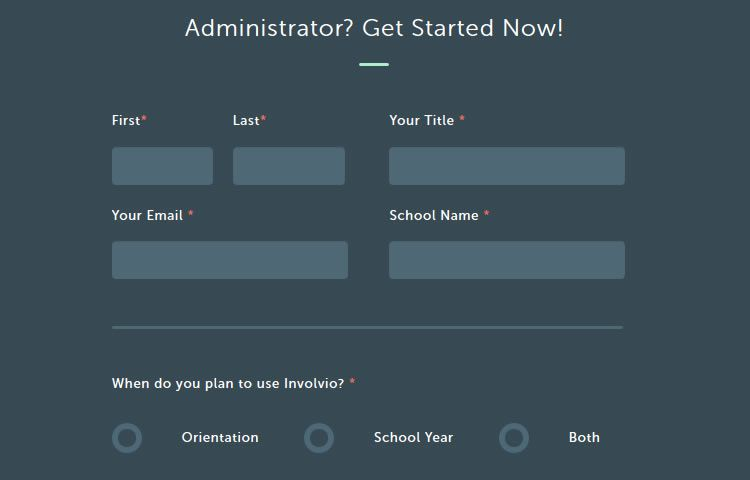_form_: (223, 64, 639, 480), (1, 53, 416, 469)
field: (111, 238, 349, 280), (390, 145, 627, 186), (388, 240, 626, 280), (230, 145, 347, 187), (114, 146, 214, 186)
field_with_label: (387, 114, 631, 189), (385, 208, 629, 282), (109, 209, 352, 282), (230, 114, 349, 189), (109, 113, 218, 189)
radio: (303, 422, 337, 455), (498, 424, 531, 456), (112, 424, 146, 455)
radio_with_label: (300, 420, 457, 458), (109, 421, 265, 457), (495, 421, 600, 458)
